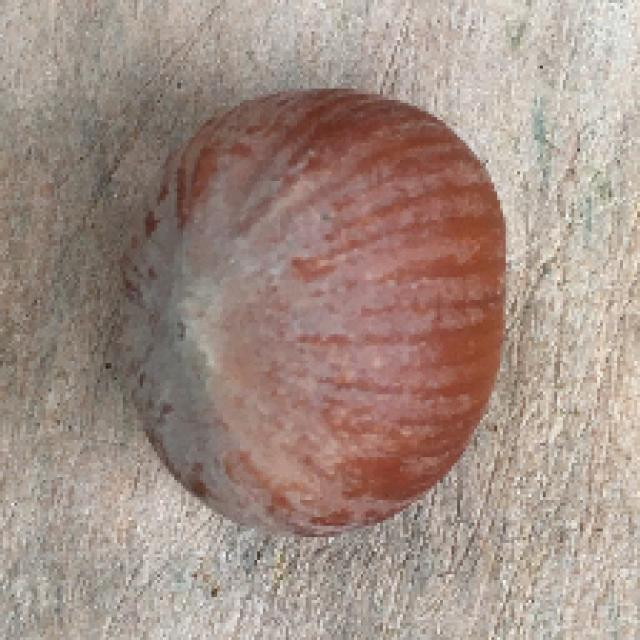QualityHazelnut: (109, 86, 510, 548)
